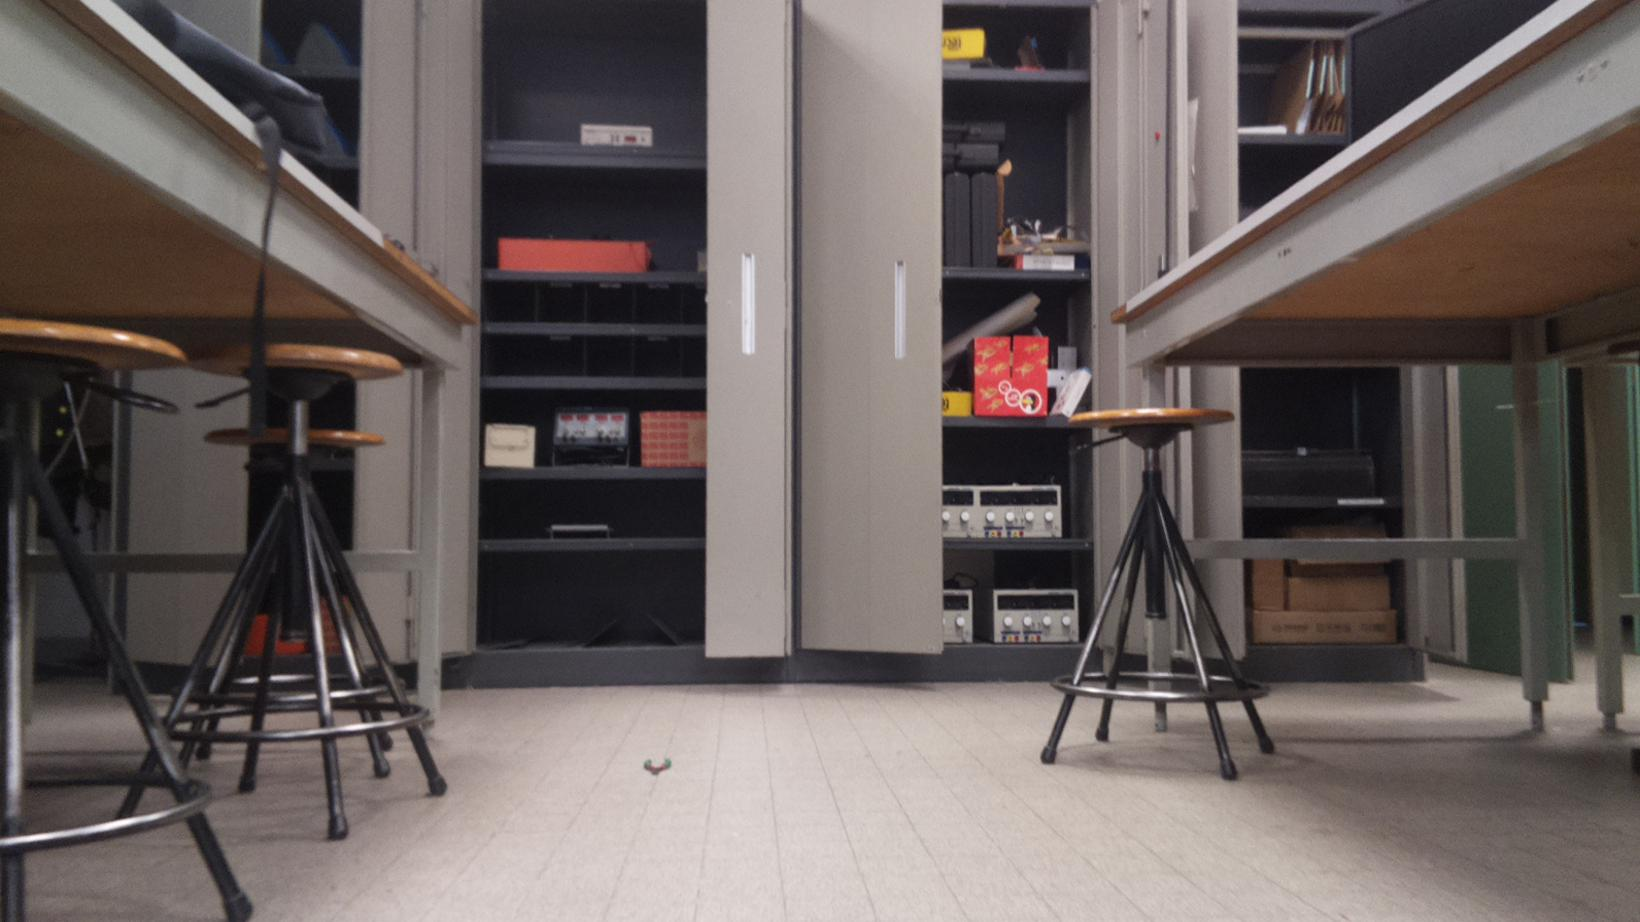small: (638, 752, 676, 778)
